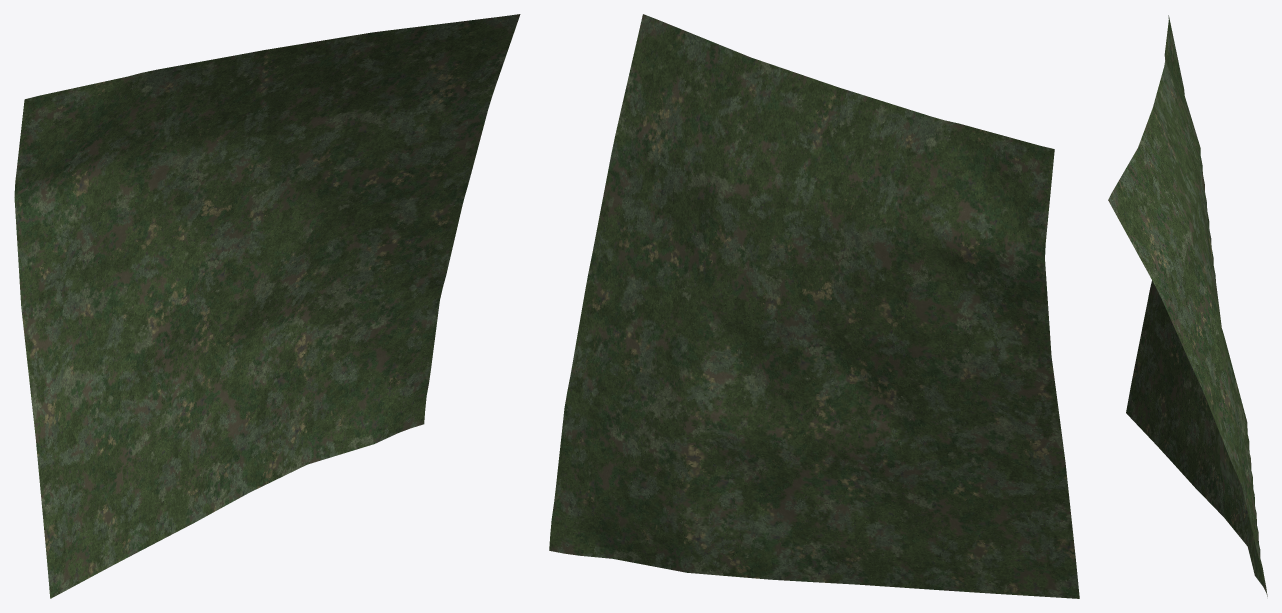
The model's file is terrain_near_01_05.obj.
The picture shows the model from 3 angles, left to right: view 1: azimuth 30°, elevation 25°; view 2: azimuth 150°, elevation 25°; view 3: azimuth 270°, elevation 25°; orthographic projection. The views are drawn at different scales.
Parts seen in each view (by area): view 1: terrain_near_01_05; view 2: terrain_near_01_05; view 3: terrain_near_01_05.
Boxes of the visible parts, left/top/right/bottom form: terrain_near_01_05: left=14, top=14, right=520, bottom=598; terrain_near_01_05: left=549, top=14, right=1079, bottom=598; terrain_near_01_05: left=1108, top=15, right=1267, bottom=596.
Size of the model in its own units: 64 by 64 by 23.24.
1 material, 1 textured.
